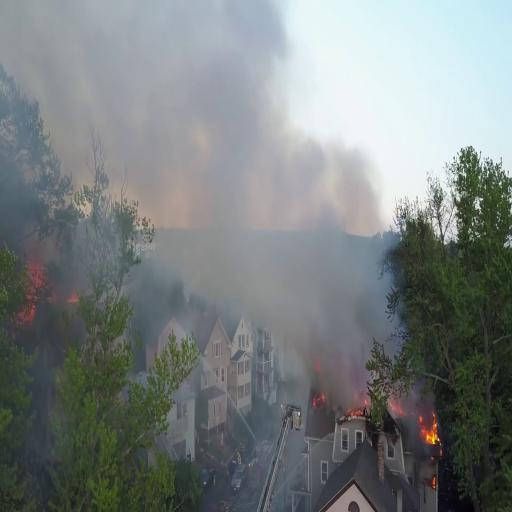fire: (420, 412, 452, 448)
smoke: (169, 0, 298, 237)
